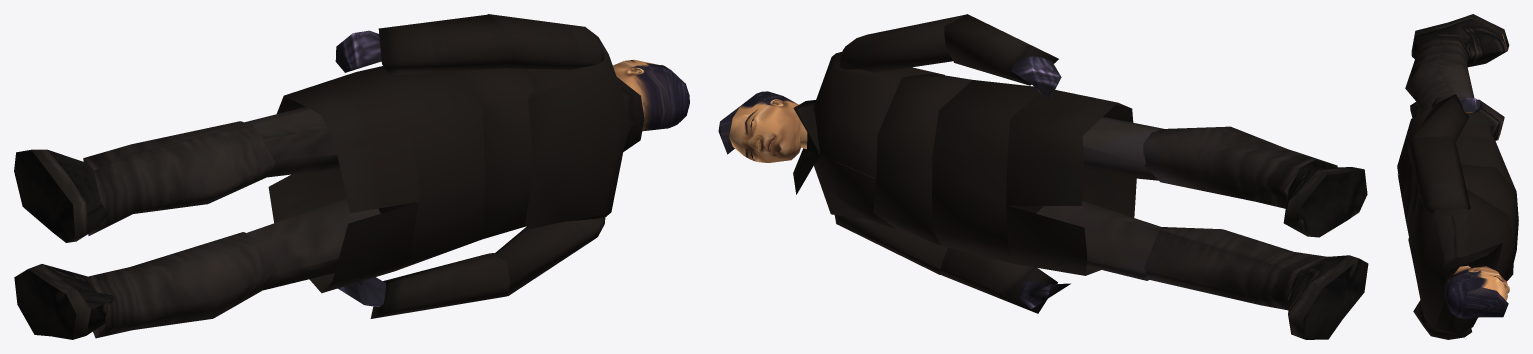
The model's file is b_man3.obj.
The picture shows the model from 3 angles, left to right: view 1: azimuth 30°, elevation 25°; view 2: azimuth 150°, elevation 25°; view 3: azimuth 270°, elevation 25°; orthographic projection. The views are drawn at different scales.
Size of the model in its own units: 1.75 by 0.7435 by 0.3996.
1 material, 1 textured.
